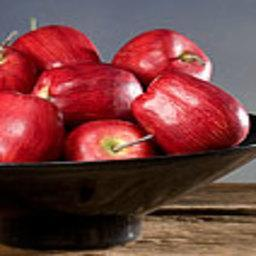apple: (133, 70, 251, 156), (0, 97, 64, 165)
